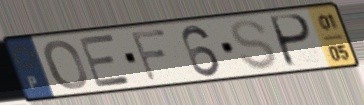6: (179, 23, 222, 79)
E: (76, 32, 135, 90)
F: (128, 27, 170, 84)
O: (42, 38, 90, 92)
P: (269, 12, 315, 70)
S: (229, 18, 279, 72)
